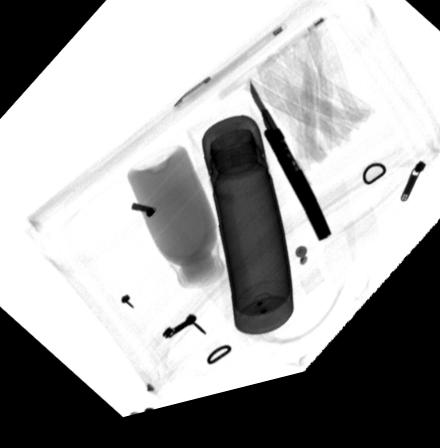Knife: (249, 91, 333, 258)
